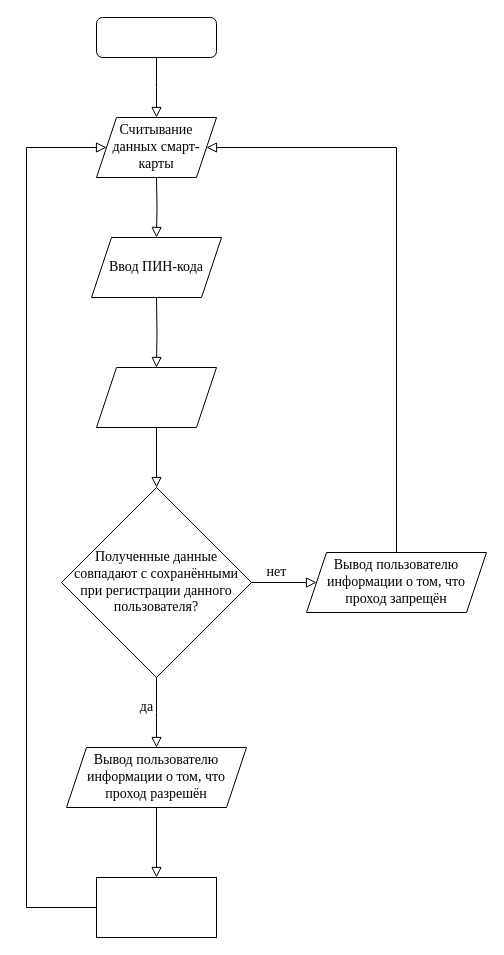
Image size: 504x955. Some labels were removed from this diagram. Here are the shapes that lost their labels. From the top down, the box of each, then its label:
(96, 16, 216, 58): Начало
(96, 366, 216, 428): Ввод OTP
(96, 876, 216, 938): открытие барьера
